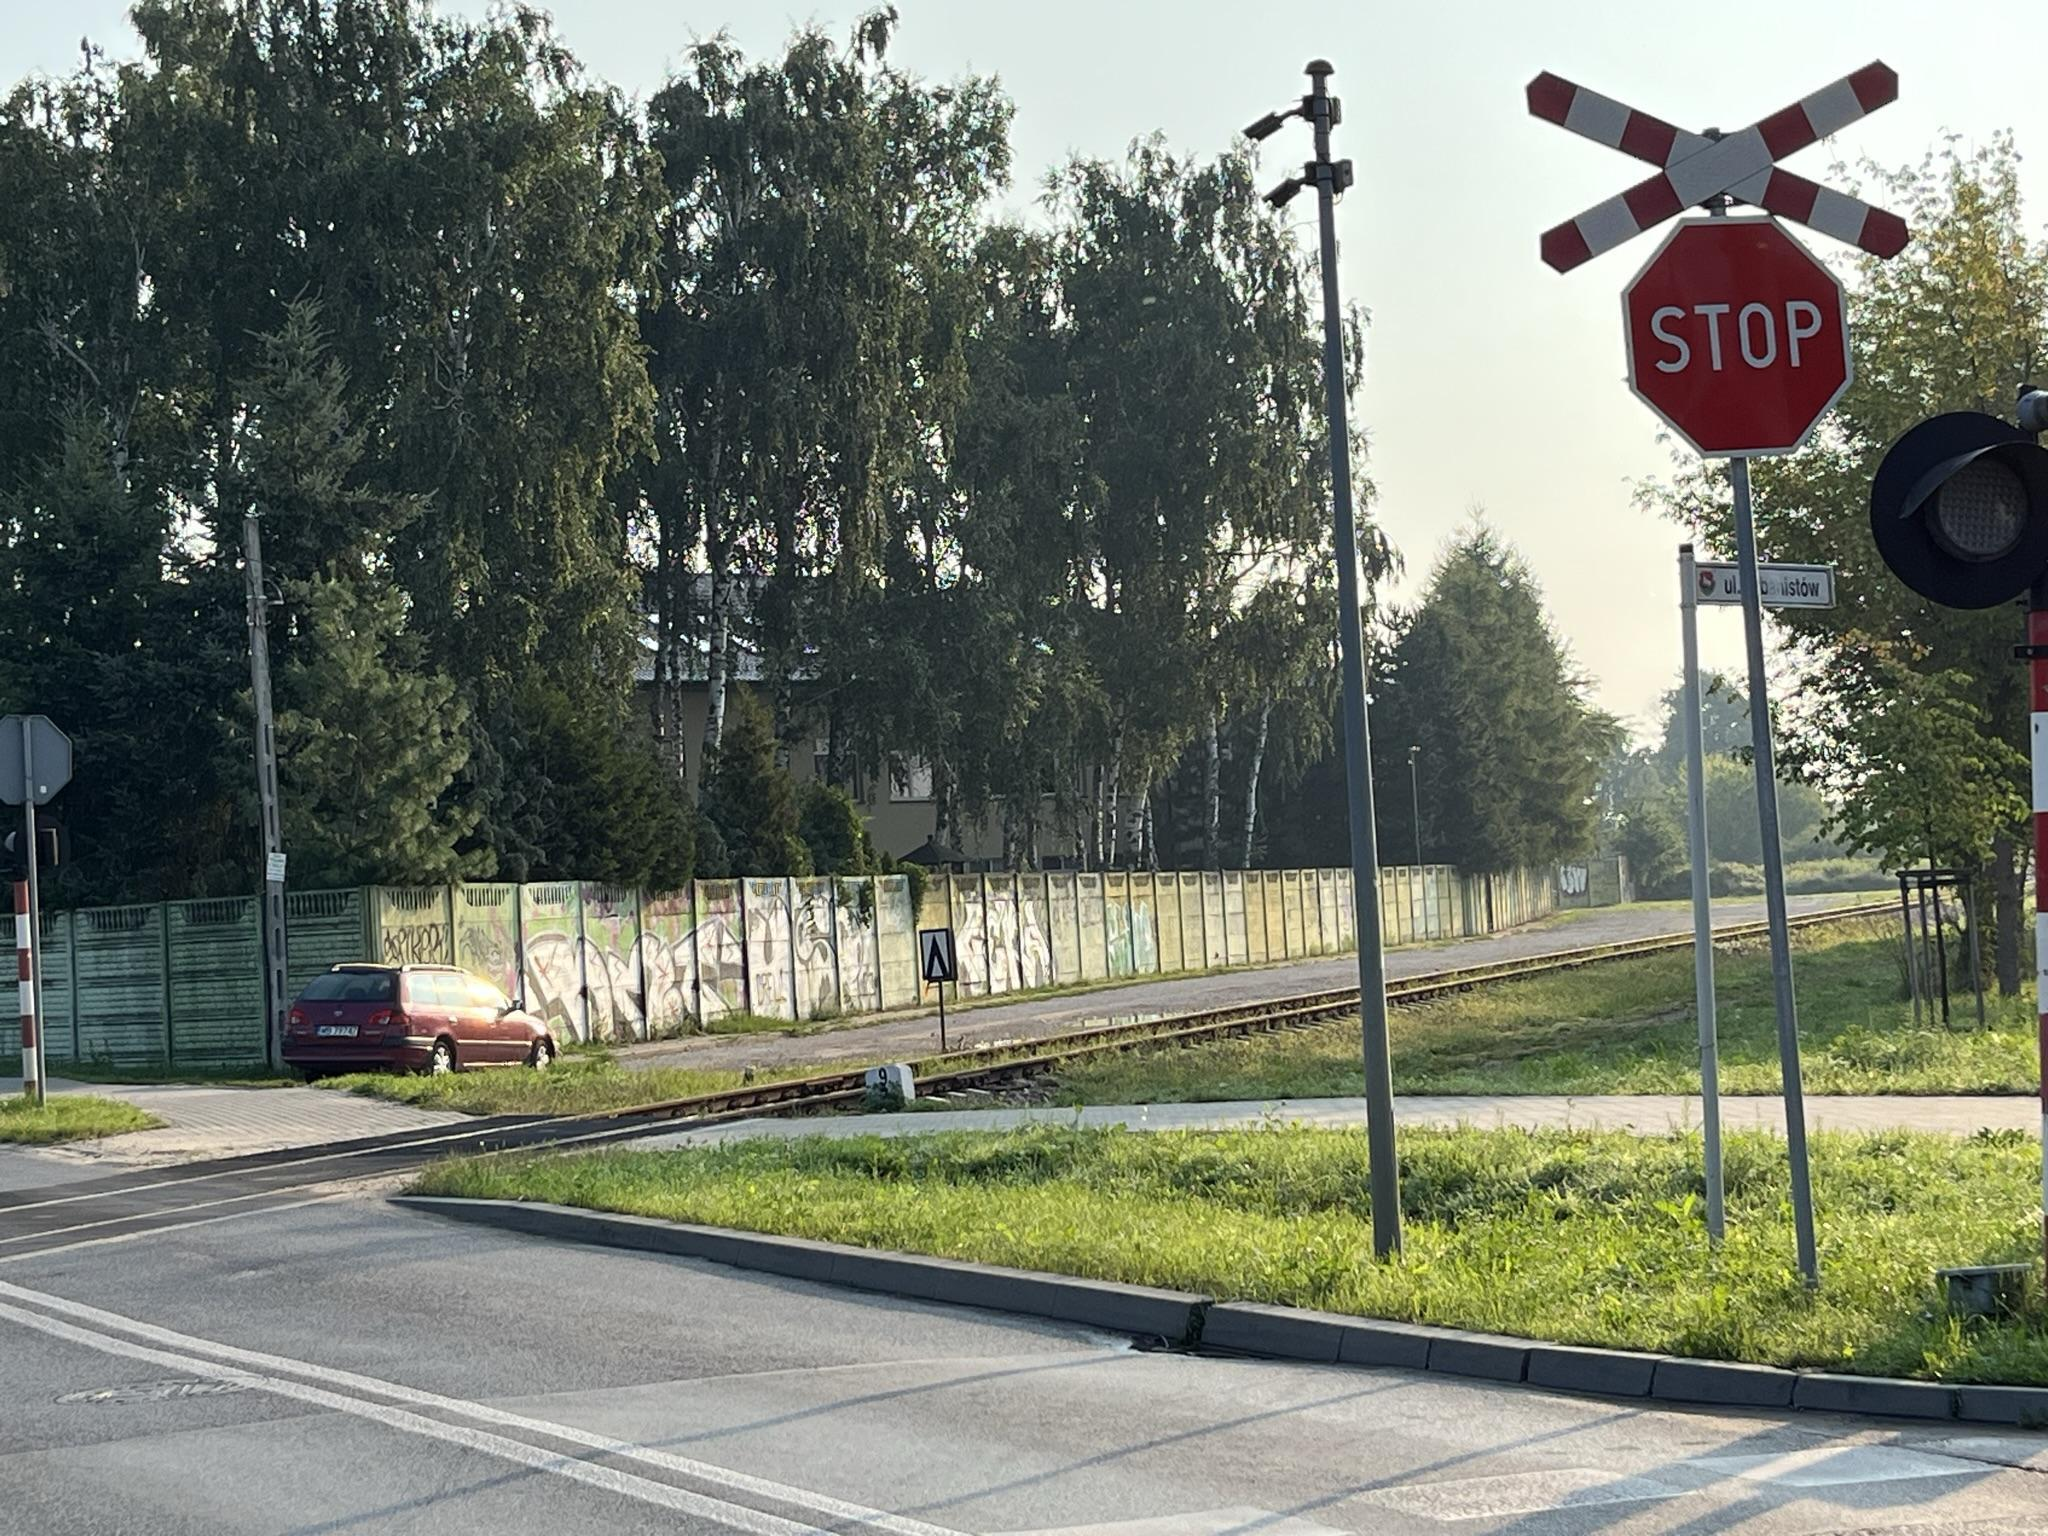prohibitory: (1624, 211, 1853, 463)
